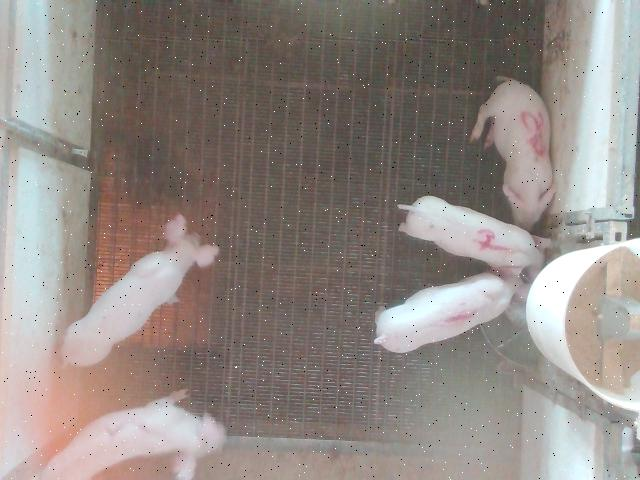pig-1: (40, 391, 225, 479), (375, 272, 522, 352)
pig-4: (399, 196, 541, 267)
pig-5: (470, 78, 555, 229)
